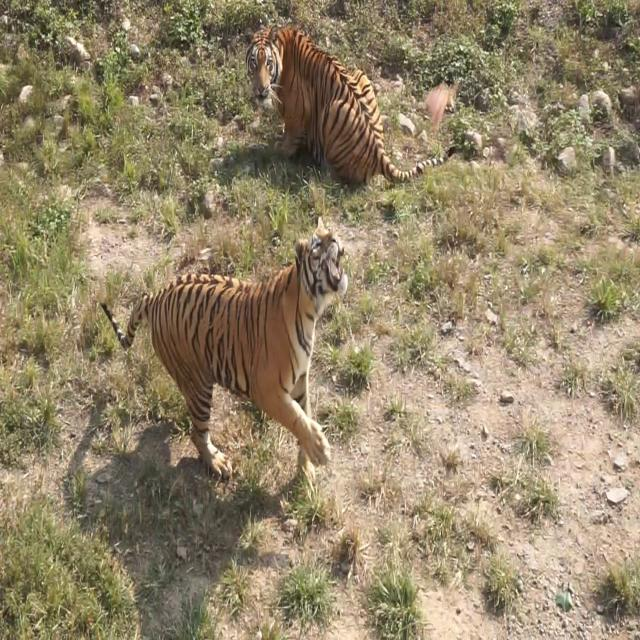Tiger: (92, 183, 375, 506), (245, 21, 456, 182)
